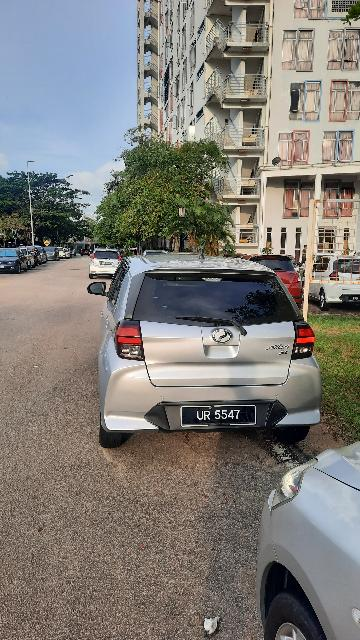License_Plate: (175, 400, 262, 430)
car: (87, 247, 327, 450)
